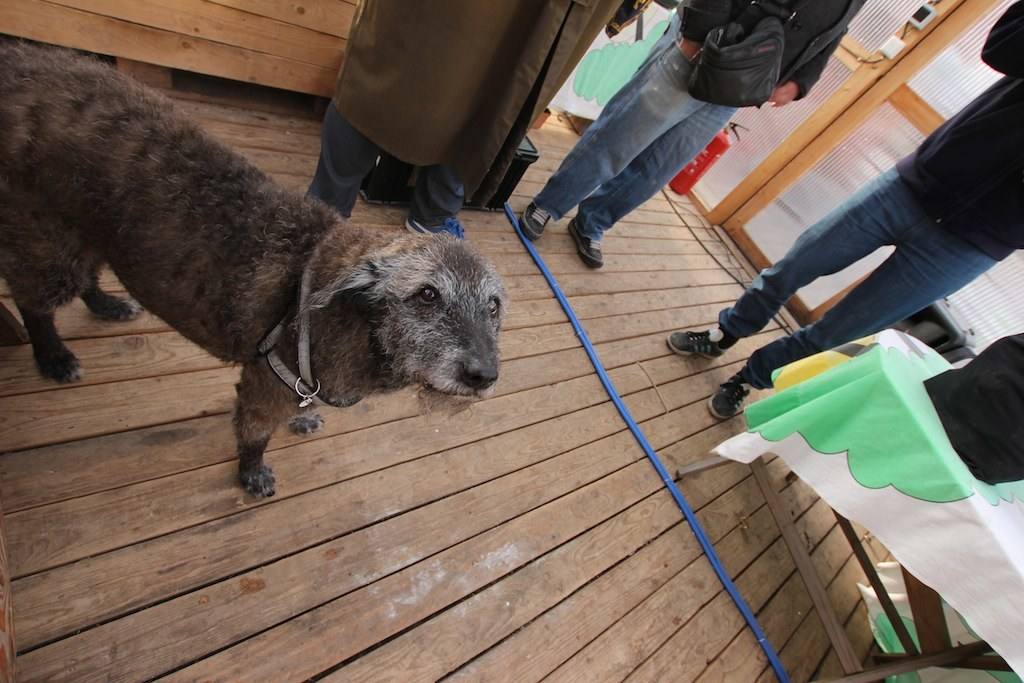Human_hand: (767, 81, 803, 110), (676, 32, 700, 65)
